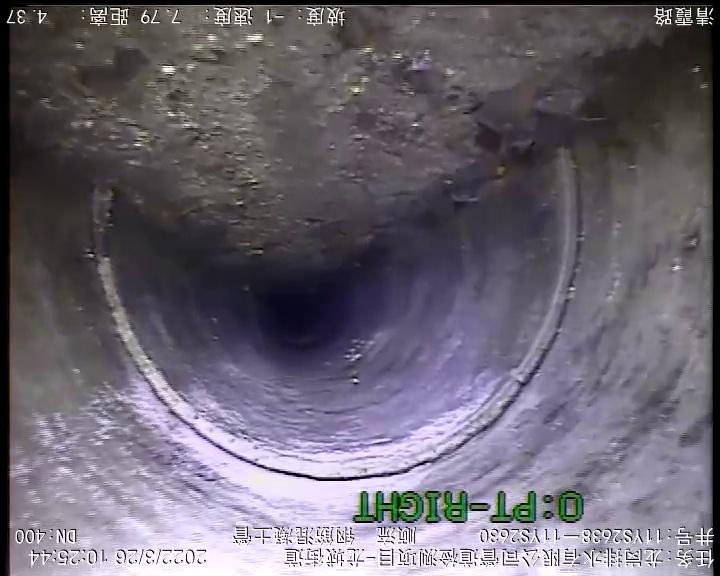CJ: (9, 8, 657, 284)
CKTJ: (86, 149, 585, 481)
